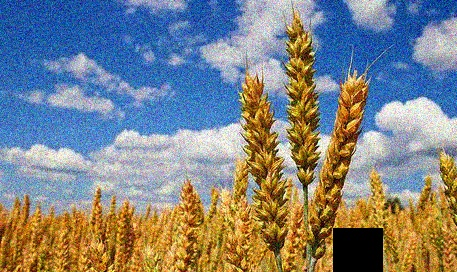wheat: (311, 72, 361, 263), (237, 63, 283, 258), (284, 10, 322, 187)
